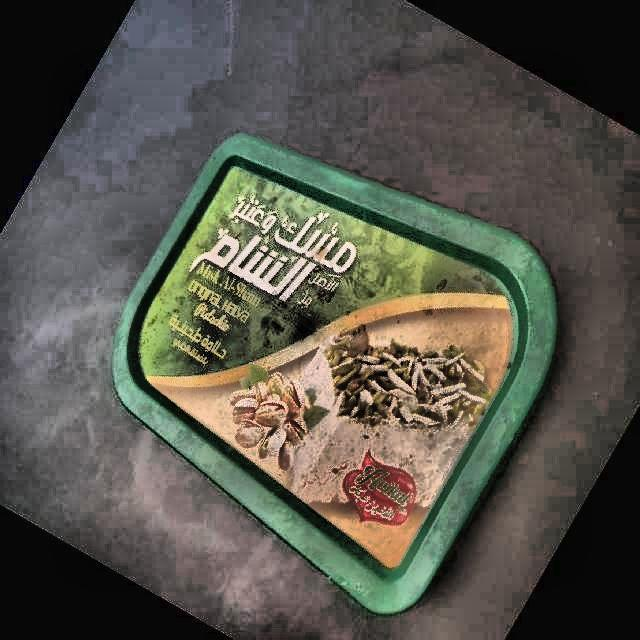plastic: (114, 135, 555, 613)
